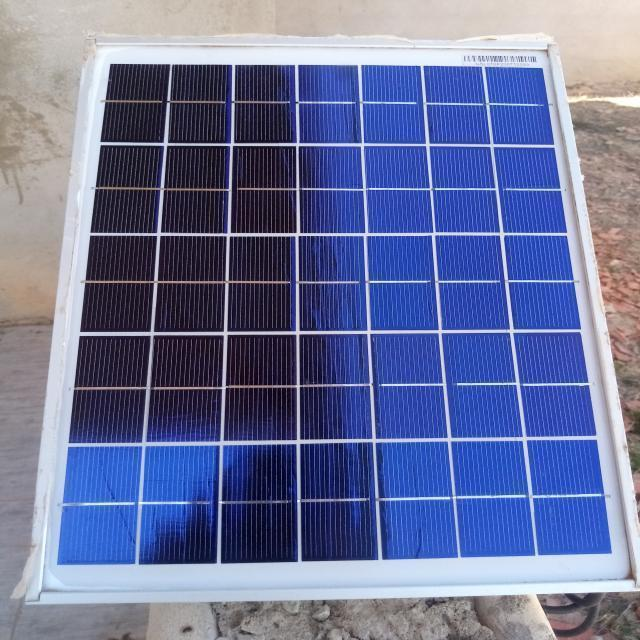Normal Solar Panel: (32, 40, 640, 600)
